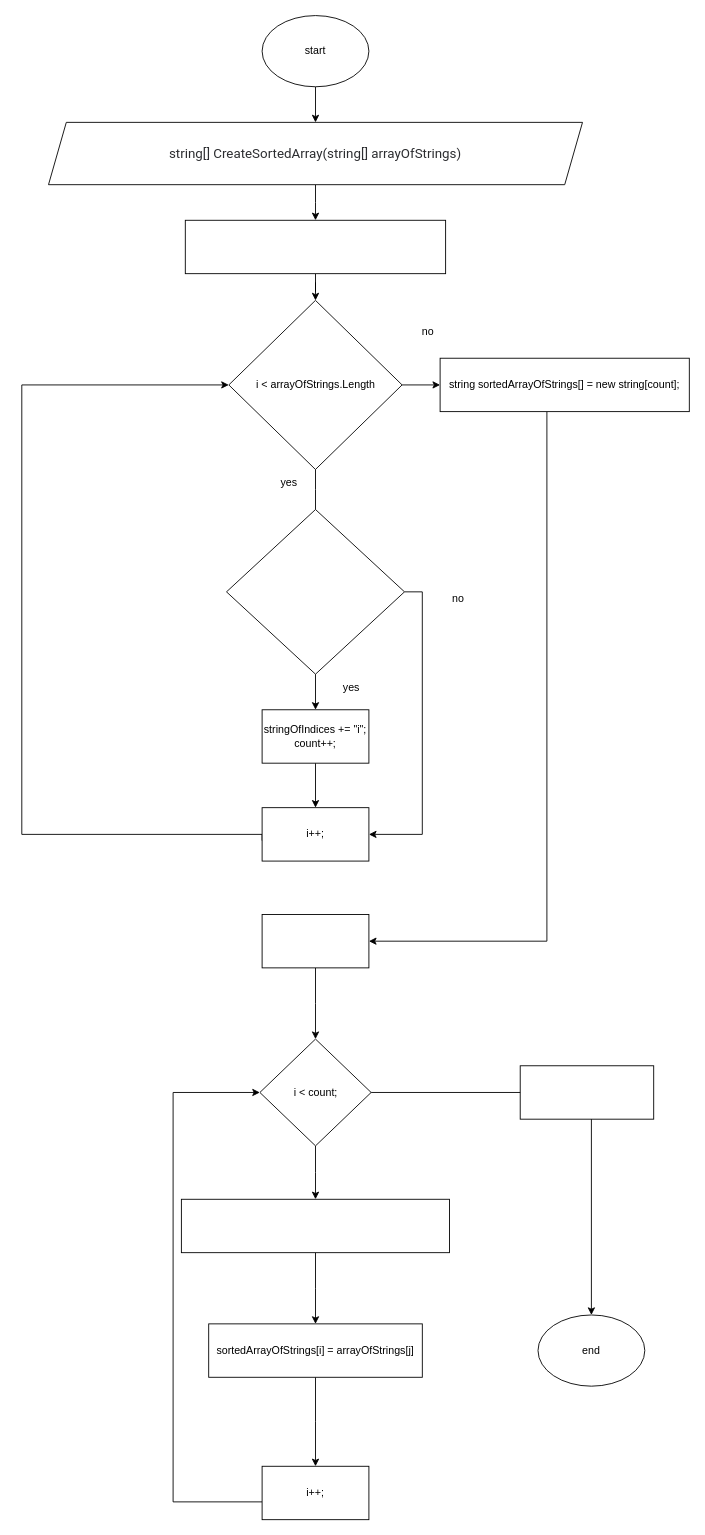
Some shapes in this 705 by 1535 pixel diagram are drawn without their labels. The shapes that lost their labels are listed below. From the top down, each one's centre as x and y in pixels, then its label:
point (315, 246): int i = 0; int count = 0; string stringOfIndices = String.Empty;
point (315, 591): arrayOfStrings[i].Length <= 3
point (315, 941): i = 0; j = 0;
point (586, 1092): return sortedArrayOfStrings[i]
point (315, 1225): j = (int)Char.GetNumericValue(stringOfIndices[i])
